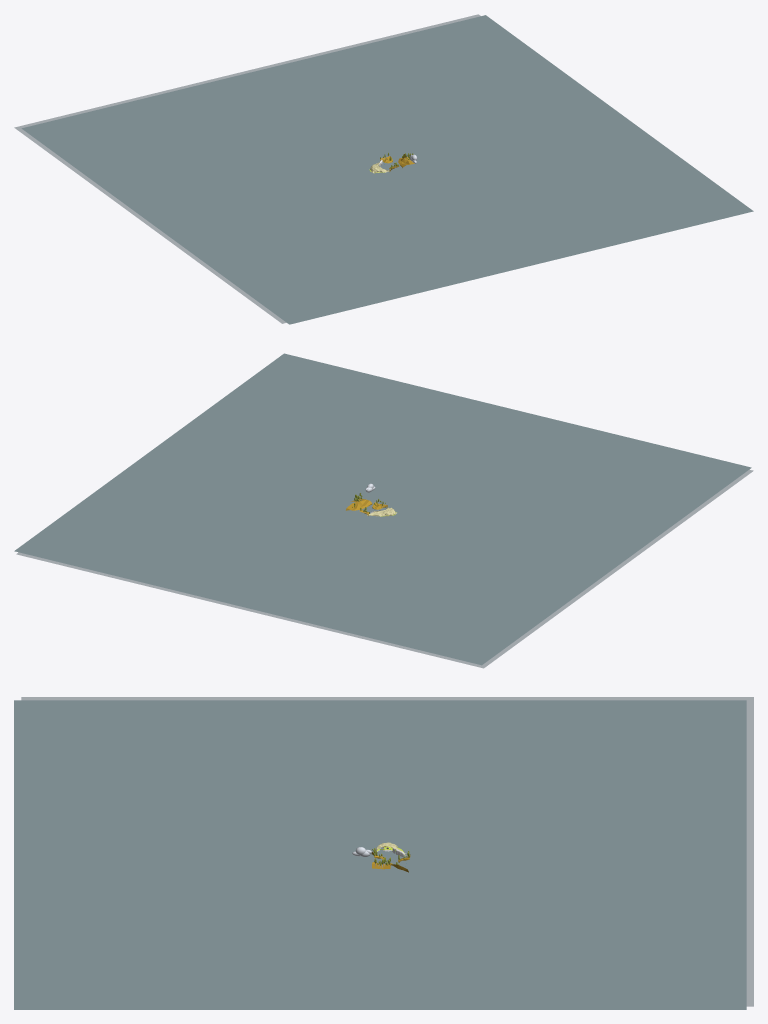
Rendered from cave.fbx.
The picture shows the model from 3 angles, top to bottom: view 1: azimuth 30°, elevation 25°; view 2: azimuth 150°, elevation 25°; view 3: azimuth 270°, elevation 25°; orthographic projection. The views are drawn at different scales.
Parts seen in each view (by area): view 1: InfiniteWaterMesh, WaterLightWaves; view 2: InfiniteWaterMesh, WaterLightWaves; view 3: InfiniteWaterMesh, WaterLightWaves.
Boxes of the visible parts, box(x1,y1,x2,y2) form: InfiniteWaterMesh: box(21, 15, 753, 324); WaterLightWaves: box(14, 14, 480, 323); InfiniteWaterMesh: box(14, 353, 751, 665); WaterLightWaves: box(16, 469, 753, 668); InfiniteWaterMesh: box(14, 700, 746, 1009); WaterLightWaves: box(21, 697, 753, 1006).
Size of the model in its own units: 62616 by 2110 by 62621.
